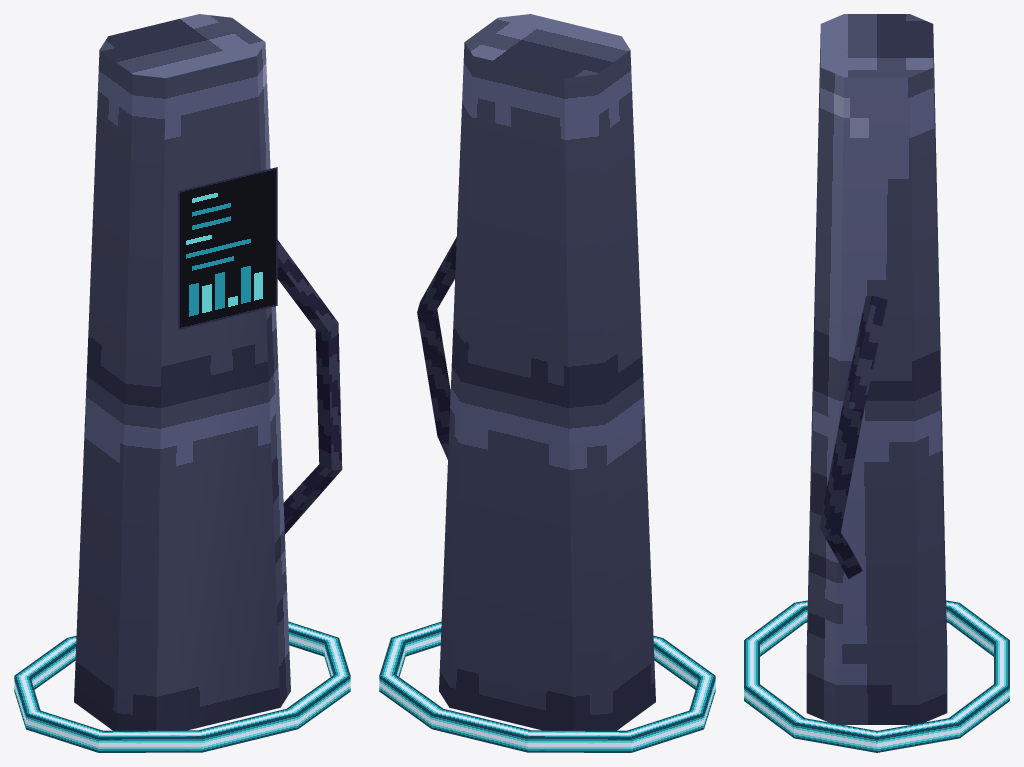
File: cytech.charger.glb
3 renders of one model, left to right at view 1: azimuth 30°, elevation 25°; view 2: azimuth 150°, elevation 25°; view 3: azimuth 270°, elevation 25°, orthographic. The views are drawn at different scales.
Parts seen in each view (by area): view 1: kit_post, kit_card_screen, kit_ring; view 2: kit_post, kit_ring; view 3: kit_post, kit_ring.
Part boxes in pixels (x1,y1,x2,y2): kit_post: [74, 14, 342, 730]; kit_card_screen: [178, 167, 277, 329]; kit_ring: [14, 621, 350, 752]; kit_post: [417, 14, 655, 730]; kit_ring: [379, 621, 715, 752]; kit_post: [806, 14, 947, 724]; kit_ring: [744, 600, 1009, 752].
Size of the model in its own units: 0.7554 by 1.5 by 0.5669.
Materials: 5 (5 with a texture image).
